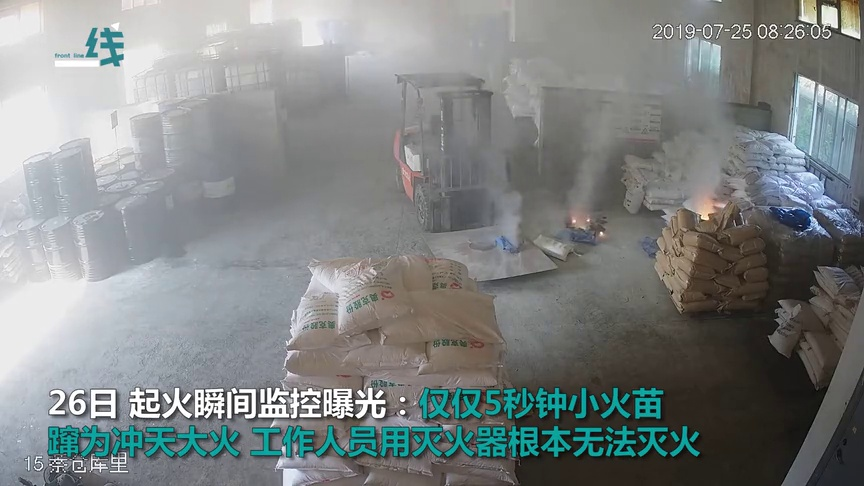smoke: (563, 114, 606, 220), (479, 141, 523, 231), (678, 104, 719, 200)
